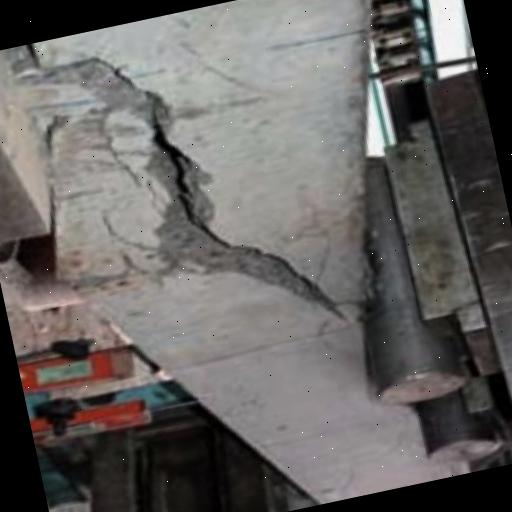spalling: (34, 55, 341, 323)
